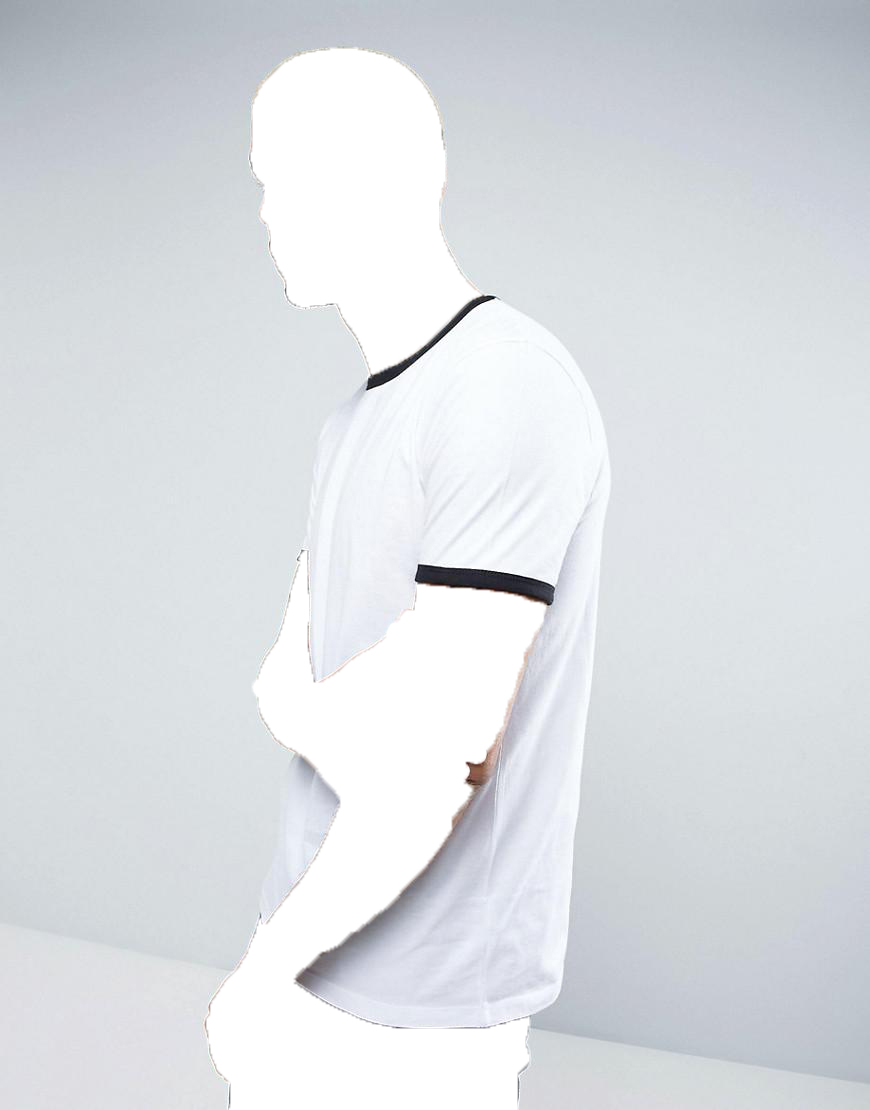teeshirt: (266, 290, 622, 1029)
